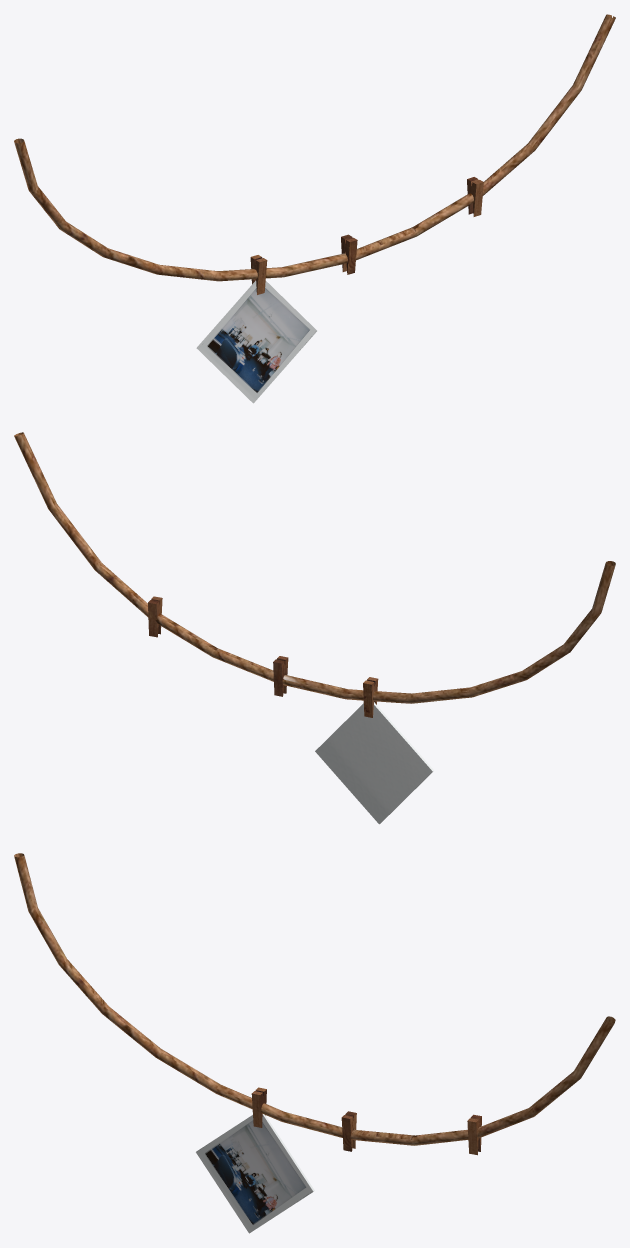
Rendered from LinePolaroid.fbx.
3 renders of one model, top to bottom at view 1: azimuth 30°, elevation 25°; view 2: azimuth 150°, elevation 25°; view 3: azimuth 330°, elevation 25°, orthographic.
Visible parts, largest first — view 1: Plane; view 2: Plane; view 3: Plane.
Boxes of the visible parts, x1=… form: Plane: x1=14, y1=14, x2=615, y2=403; Plane: x1=14, y1=432, x2=615, y2=824; Plane: x1=14, y1=853, x2=615, y2=1233.
Bounding box in the file's own units: 4 × 0.1123 × 2.03.
